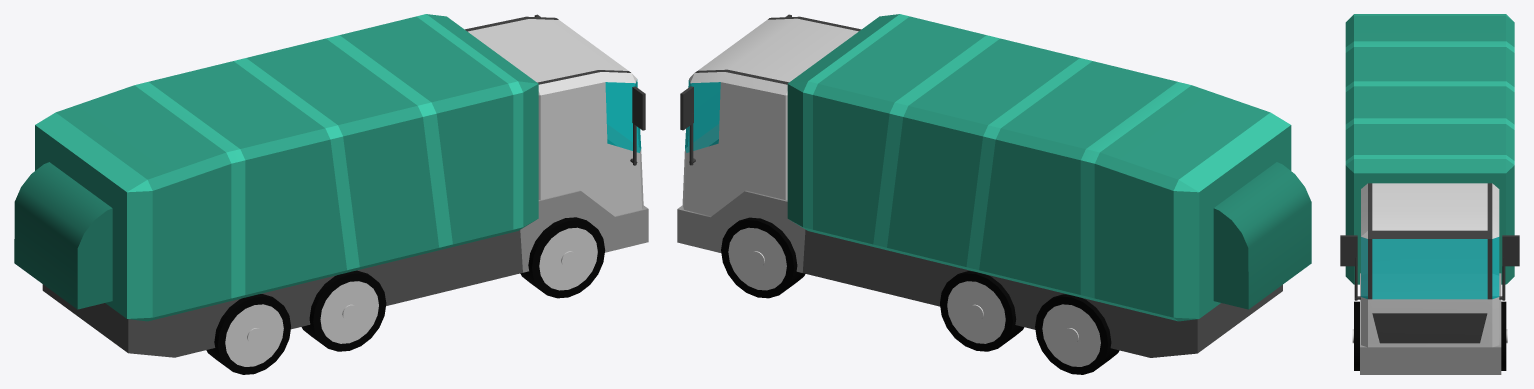
Rendered from garbagetruck.fbx.
3 views of the same model, side by side, from view 1: azimuth 30°, elevation 25°; view 2: azimuth 150°, elevation 25°; view 3: azimuth 270°, elevation 25° (orthographic). The views are drawn at different scales.
Visible parts, largest first — view 1: pCube5; view 2: pCube5; view 3: pCube5.
Part boxes in pixels (bbox=[...]): pCube5: bbox=[14, 14, 648, 374]; pCube5: bbox=[677, 14, 1311, 374]; pCube5: bbox=[1340, 14, 1519, 374].
Bounding box in the file's own units: 70.16 × 27.34 × 23.5.
